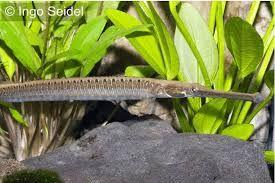Long-Snouted Pipefish: (0, 69, 267, 114)
